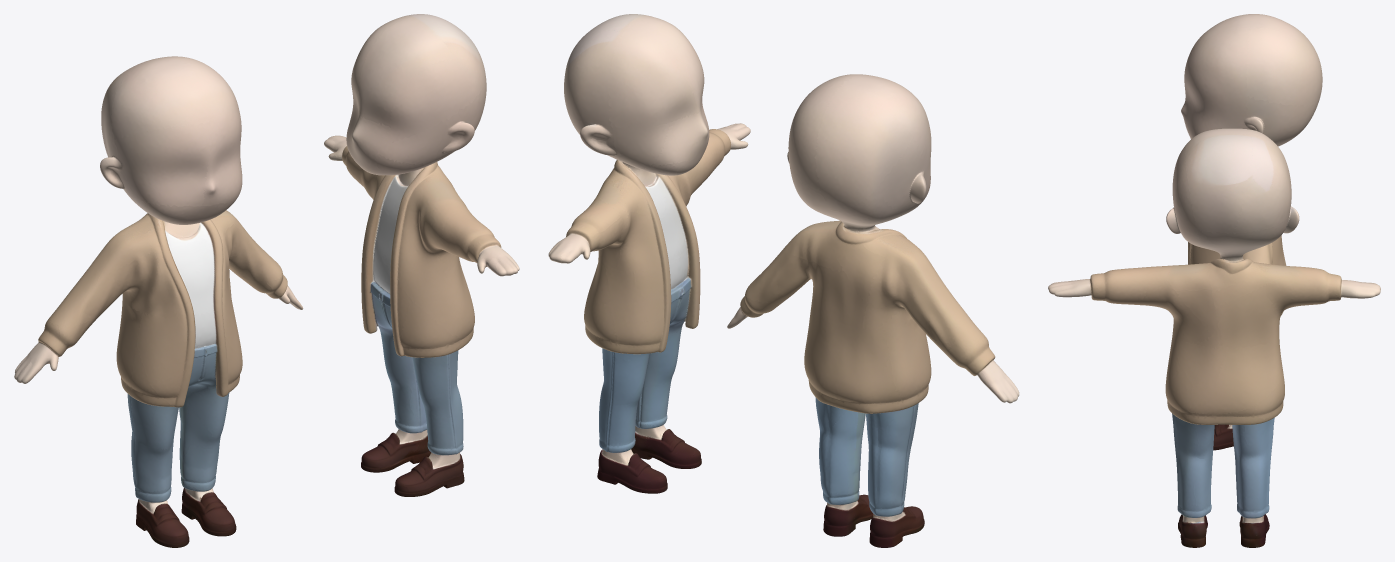
File: baked_noutfit_cardigan.glb
The picture shows the model from 3 angles, left to right: view 1: azimuth 30°, elevation 25°; view 2: azimuth 150°, elevation 25°; view 3: azimuth 270°, elevation 25°; orthographic projection. The views are drawn at different scales.
Bounding box in the file's own units: 1.9 × 1.82 × 1.34.
1 material, 1 textured.
